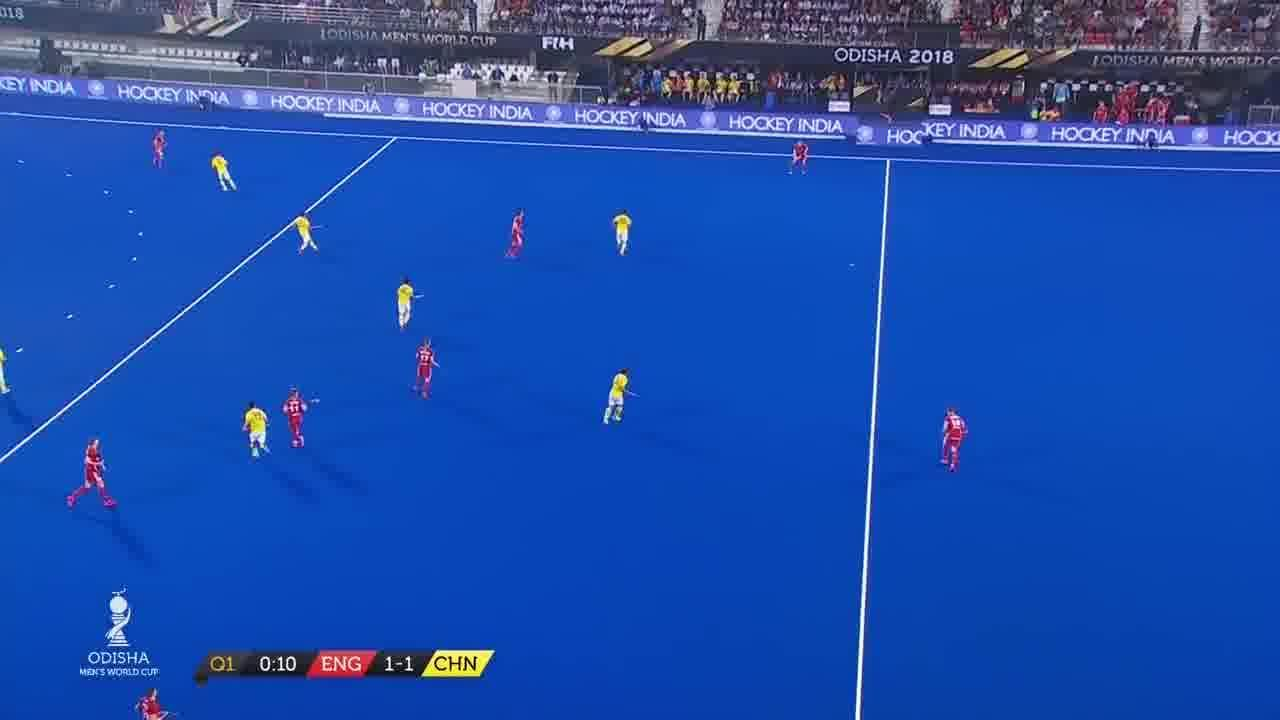ball: (842, 261, 860, 274)
